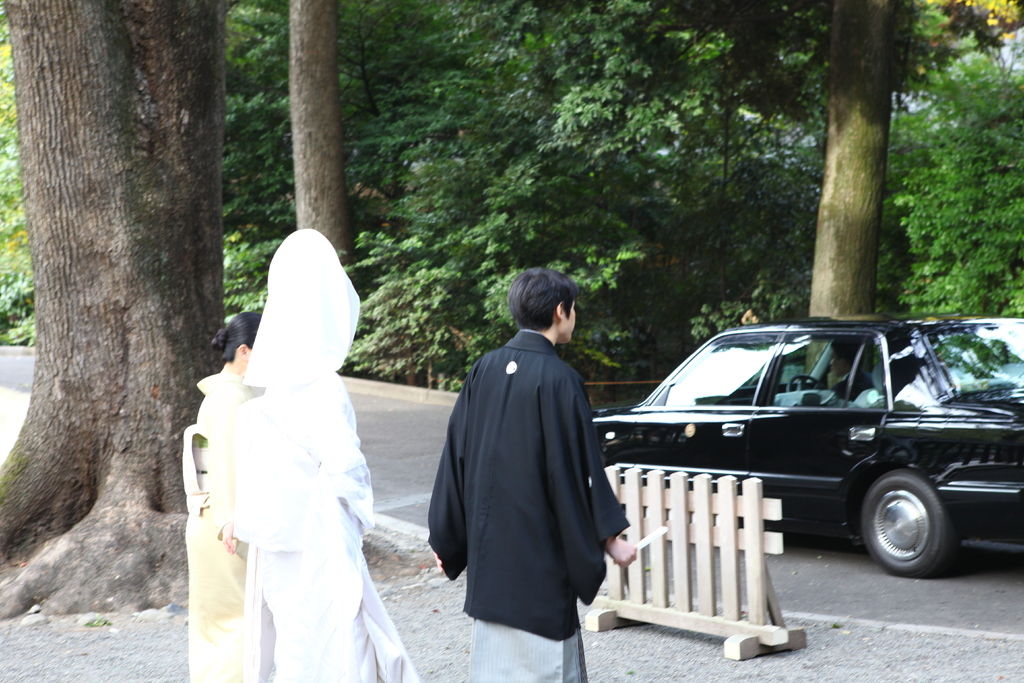cars: (582, 310, 1023, 577)
